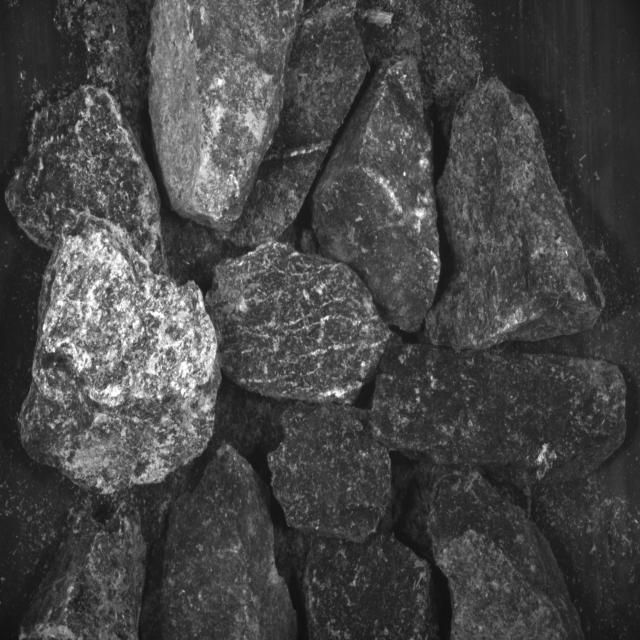Stones: (20, 213, 221, 495), (427, 79, 606, 351), (150, 1, 304, 232), (374, 346, 626, 485), (314, 58, 441, 332), (230, 1, 370, 248), (6, 86, 167, 275), (207, 243, 391, 404), (161, 446, 297, 640), (429, 471, 585, 640), (21, 504, 147, 640), (269, 406, 392, 544), (305, 534, 439, 640)
